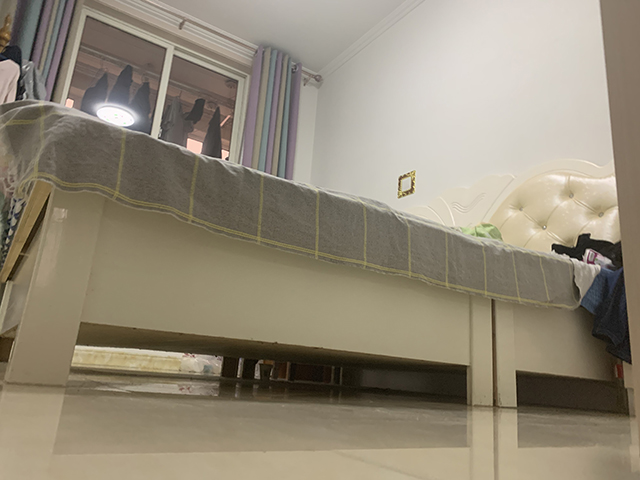bed: (1, 95, 636, 416)
curtain: (241, 44, 303, 182)
